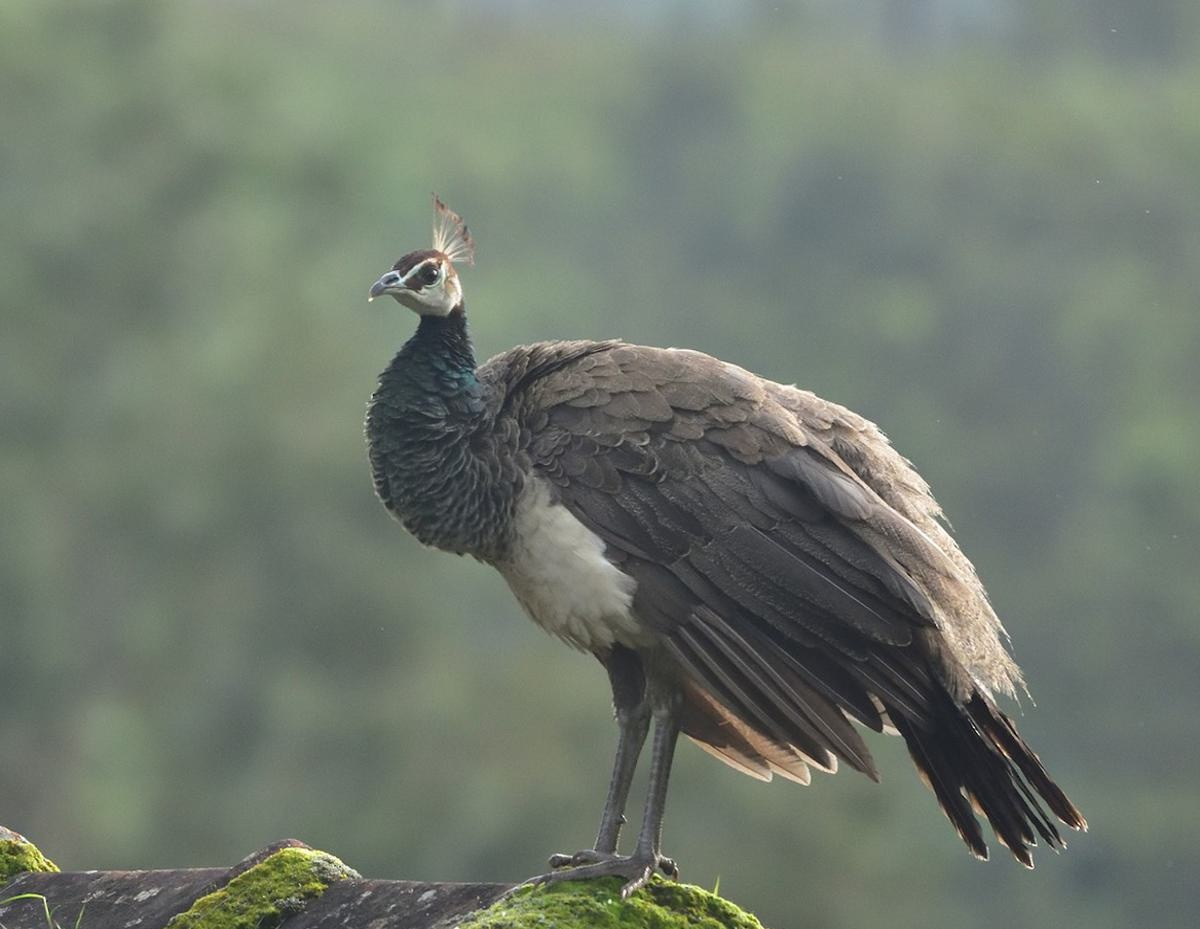peacock: (338, 176, 1108, 929)
